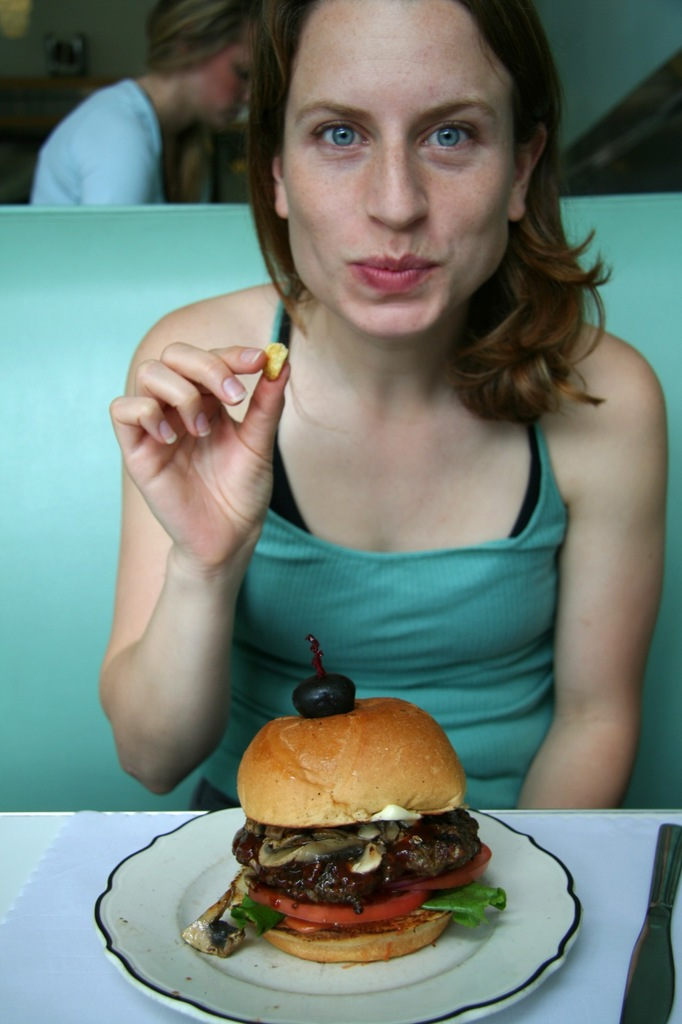hamburger: (183, 637, 505, 964)
